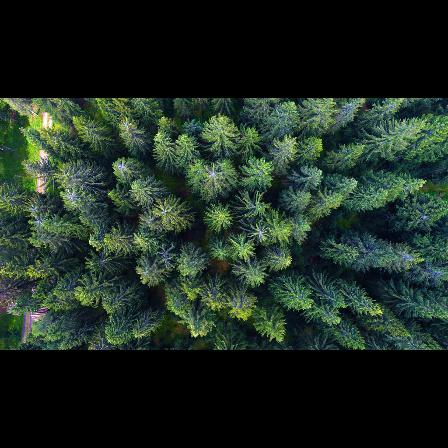Sick: (158, 243, 177, 269), (249, 223, 273, 242), (201, 161, 220, 181), (157, 205, 172, 218)
